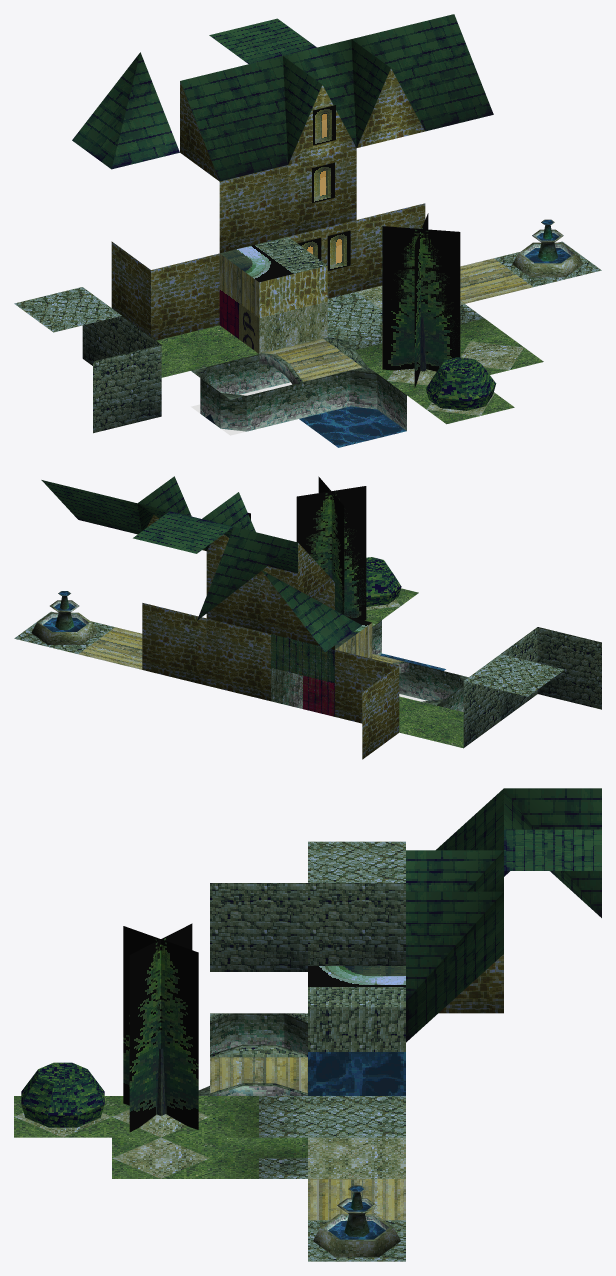
The model's file is TownTiles_002.glb.
3 renders of one model, top to bottom at view 1: azimuth 30°, elevation 25°; view 2: azimuth 150°, elevation 25°; view 3: azimuth 270°, elevation 25°, orthographic. The views are drawn at different scales.
Parts seen in each view (by area): view 1: Town_Dirts.002, Cube, building_Wall.006, building_Wall.008, building_Wall.009, building_Wall.007, building_Wall.005, Town_River.003, Building_Roof.007, Town_Wall.001, Town_River.001, building_Wall.001 (+16 smaller); view 2: Town_Dirts.002, Town_Wall.001, Cube, building_Wall.008, building_Wall.002, building_Wall.003, Building_Roof.005, Town_Road.001, building_Wall.004, building_Wall, Building_Roof.007, Town_Road.002 (+13 smaller); view 3: Town_Dirts.002, Cube, Town_Wall.001, Town_Wall, building_Wall.007, Town_Dirts.004, Building_Roof.005, Town_Road.001, Cube.001, building_Wall.009, building_Wall.005, Town_Road (+10 smaller).
Part boxes in pixels (x1,y1,x2,y2): Town_Dirts.002: (368, 213, 460, 395); Cube: (219, 237, 327, 353); building_Wall.006: (180, 64, 287, 181); building_Wall.008: (111, 241, 219, 340); building_Wall.009: (386, 14, 493, 131); building_Wall.007: (317, 31, 425, 147); building_Wall.005: (249, 47, 356, 164); Town_River.003: (298, 366, 406, 447); Building_Roof.007: (72, 52, 179, 169); Town_Wall.001: (93, 316, 161, 433); Town_River.001: (191, 354, 298, 435); building_Wall.001: (219, 165, 288, 253); Town_Dirts.002: (296, 476, 381, 626); Town_Wall.001: (500, 627, 601, 720); Cube: (271, 616, 372, 716); building_Wall.008: (335, 650, 399, 759); building_Wall.002: (206, 618, 270, 701); building_Wall.003: (142, 603, 206, 685); Building_Roof.005: (197, 527, 297, 620); Town_Road.001: (14, 591, 114, 653); building_Wall.004: (206, 551, 270, 633); building_Wall: (271, 634, 334, 716); Building_Roof.007: (261, 570, 361, 652); Town_Road.002: (133, 511, 233, 553); Town_Dirts.002: (112, 923, 209, 1137); Cube: (308, 966, 405, 1095); Town_Wall.001: (210, 883, 307, 971); Town_Wall: (308, 883, 405, 965); building_Wall.007: (406, 871, 503, 1000); Town_Dirts.004: (14, 1062, 111, 1137); Building_Roof.005: (504, 788, 601, 917); Town_Road.001: (308, 1185, 405, 1261); Cube.001: (210, 1044, 307, 1095); building_Wall.009: (406, 913, 503, 1042); building_Wall.005: (406, 830, 503, 891); Town_Road: (308, 1096, 405, 1137).
Bounding box in the file's own units: 16 × 7 × 12.
2 materials, 1 textured.
